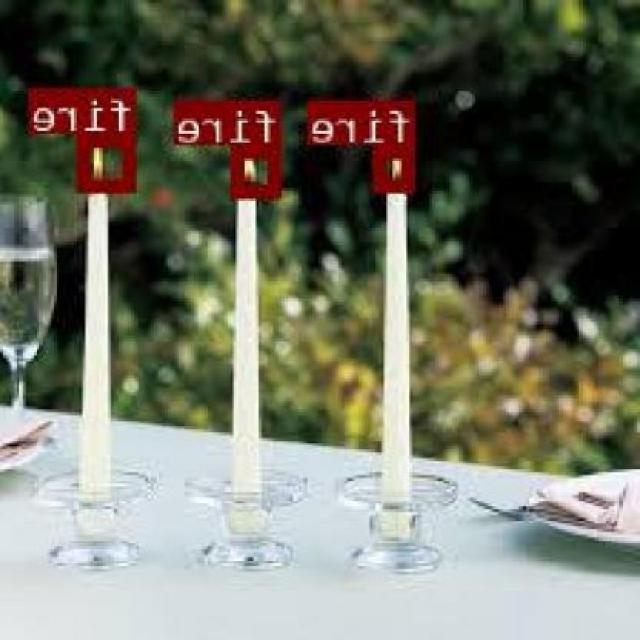fire: (79, 133, 138, 190), (233, 142, 284, 195), (376, 144, 416, 188)
